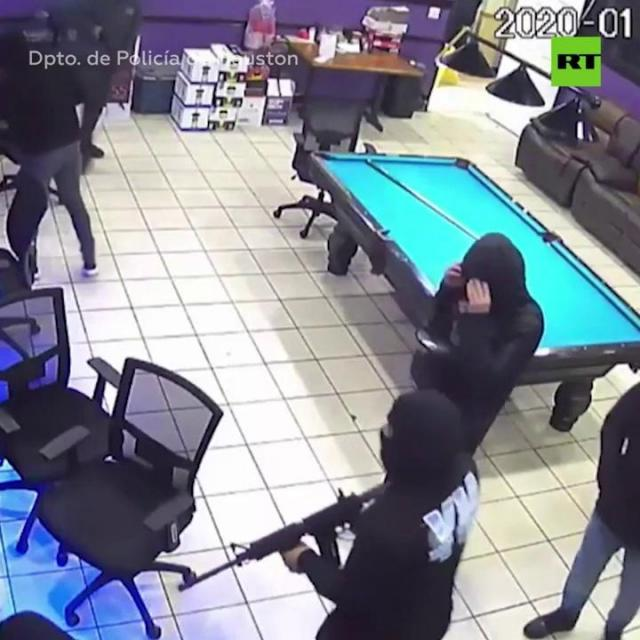weapon: (167, 468, 393, 612)
